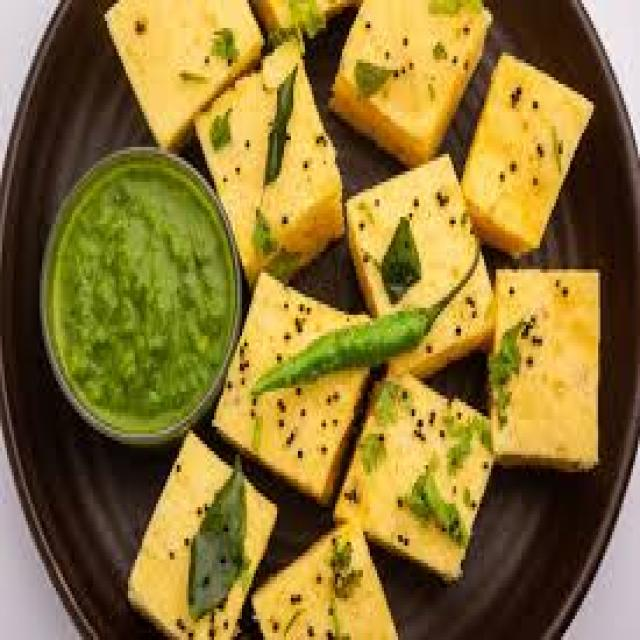DHOKLA: (195, 36, 346, 283), (215, 278, 382, 501), (334, 368, 492, 576), (124, 429, 273, 637), (347, 151, 491, 359), (327, 0, 491, 169), (103, 0, 271, 159), (458, 54, 593, 244), (490, 269, 597, 471), (251, 514, 399, 637)
